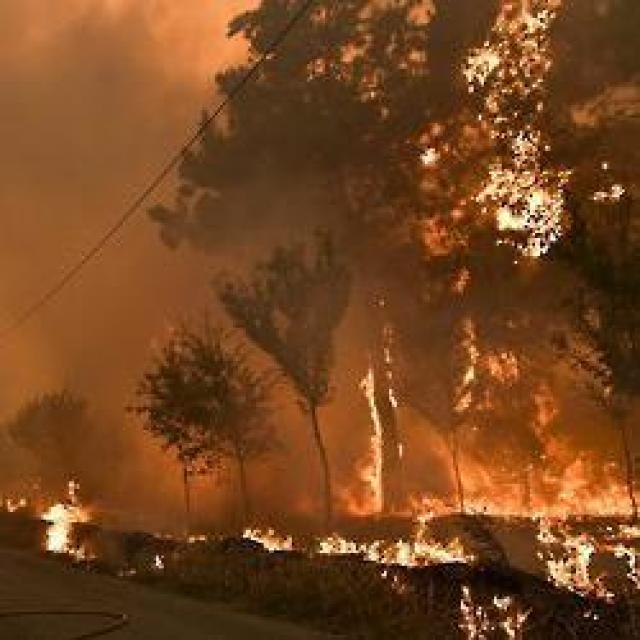fire: (452, 444, 640, 596), (468, 2, 572, 257), (319, 528, 468, 576), (46, 484, 92, 564)
smoke: (76, 405, 168, 518)
